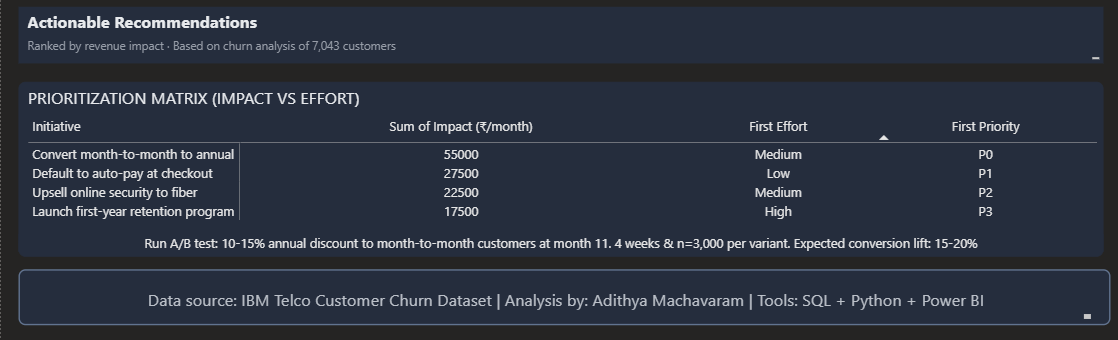

The dashboard page shown, as its layout file describes it:
{"tool":"powerbi","page":{"name":"Recommendations","canvas":[1280,400],"ordinal":3},"visuals":[{"type":"textbox","title":"Actionable Recommendations","box":[20,10,1240,65],"z":0},{"type":"textbox","title":"Data source: IBM Telco Customer Churn Dataset | Analysis by: Adithya Machavaram | Tools: SQL + Python + Power BI","box":[20,310,1248,64],"z":7000},{"type":"pivotTable","title":"PRIORITIZATION MATRIX (IMPACT VS EFFORT)","fields":{"Rows":["Prioritization.Initiative"],"Values":["Sum(Prioritization.Impact (₹/month))","Min(Prioritization.Effort)","Min(Prioritization.Priority)"]},"box":[20,95,1240,200],"z":7001},{"type":"textbox","title":"Run A/B test: 10-15% annual discount to month-to-month customers at month 11. 4 weeks & n=3,000 per variant. Expected conversion lift: 15-20%","box":[20,270,1240,20],"z":7002}]}

Visuals, with their boxes in screenshot pixels (x1, y1, x2, y2), scaled from the page's 1280x400 canvas onto the 1118x340 screenshot:
"Actionable Recommendations" textbox: <bbox>17, 8, 1101, 64</bbox>
"Data source: IBM Telco Customer Churn Dataset | Analysis by: Adithya Machavaram | Tools: SQL + Python + Power BI" textbox: <bbox>17, 264, 1108, 318</bbox>
"PRIORITIZATION MATRIX (IMPACT VS EFFORT)" pivotTable: <bbox>17, 81, 1101, 251</bbox>
"Run A/B test: 10-15% annual discount to month-to-month customers at month 11. 4 weeks & n=3,000 per variant. Expected conversion lift: 15-20%" textbox: <bbox>17, 230, 1101, 246</bbox>
